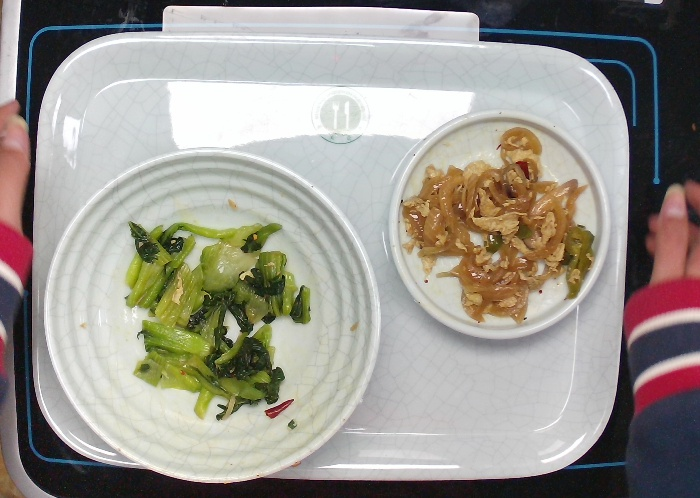JYsf-Da_Tang_Wan: (40, 144, 384, 487)
JYsf-Xiao_Yuan_Pan: (381, 106, 620, 342)
